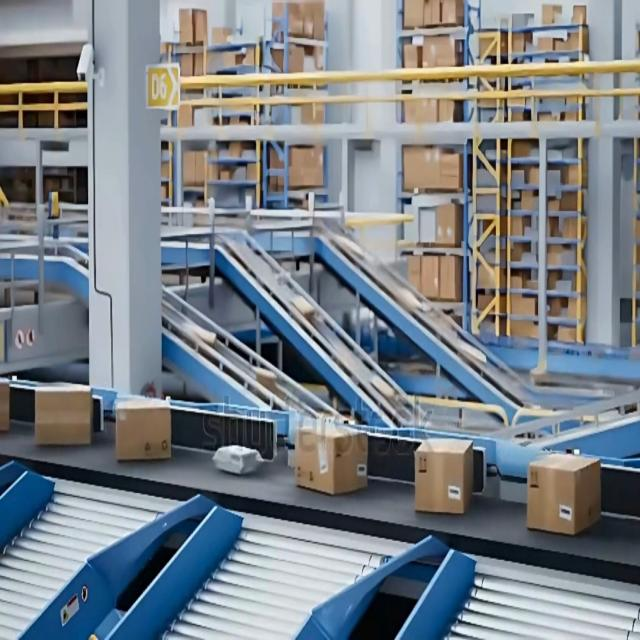product 1: (294, 416, 368, 495), (414, 436, 474, 515), (115, 396, 172, 461)
product 2: (212, 445, 266, 476)
